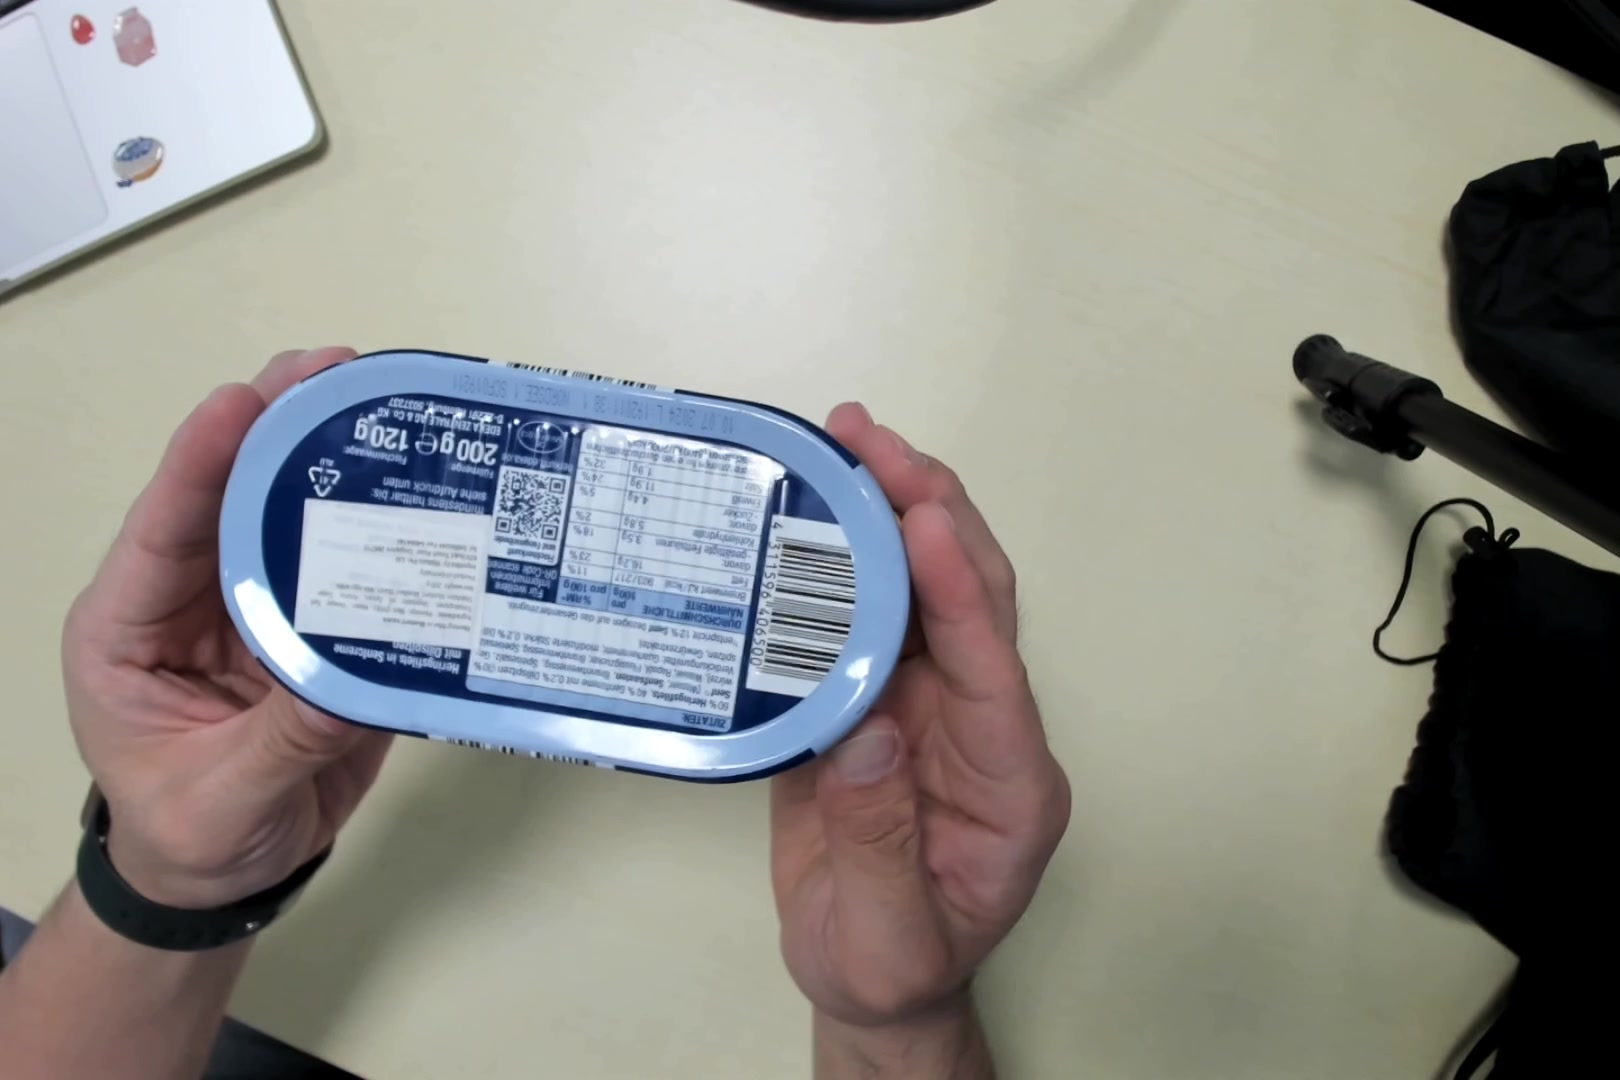OtherCannedSeafood_100-199g_Halal_NonHealthy: (248, 356, 912, 777)
